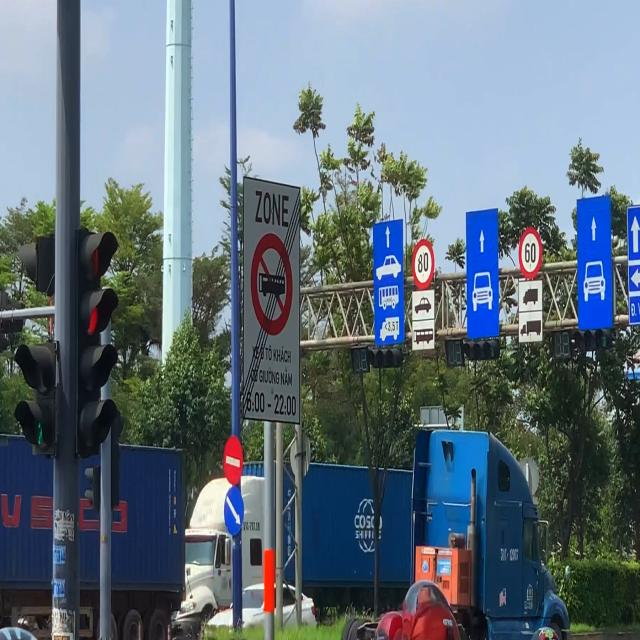Cam con lai: (250, 230, 294, 336)
Cam nguoc chieu: (222, 434, 244, 486)
Hieu lenh: (223, 485, 244, 537)
Toc do toi da: (518, 226, 543, 280), (411, 238, 435, 290)
